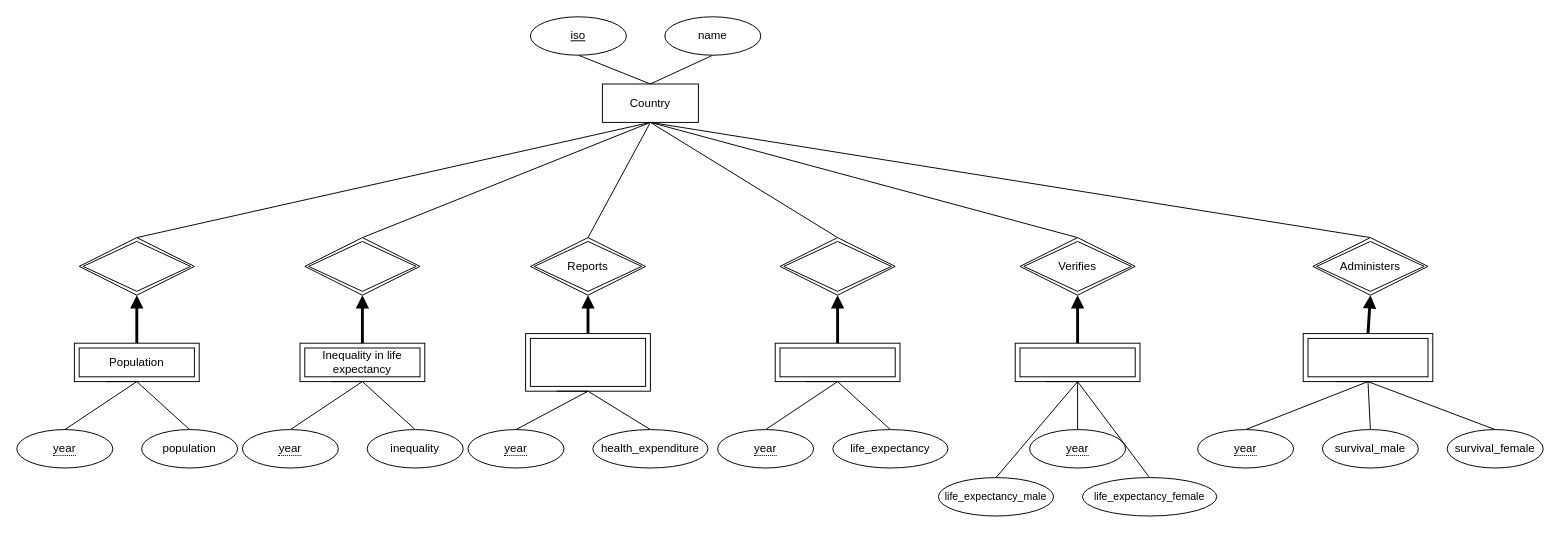
Some shapes in this 1560 by 533 pixel diagram are drawn without their labels. Here are the shapes that lost their labels. From the top down, the box of each, then its label:
(78, 237, 194, 295): Has
(304, 237, 420, 295): Experiences
(779, 237, 895, 295): Confirms
(525, 333, 650, 391): Current health expenditure per capita
(774, 342, 900, 382): Life expectancy all
(1014, 342, 1140, 382): Life expectancy gender
(1302, 333, 1433, 382): Percentage survival to the age of 65
